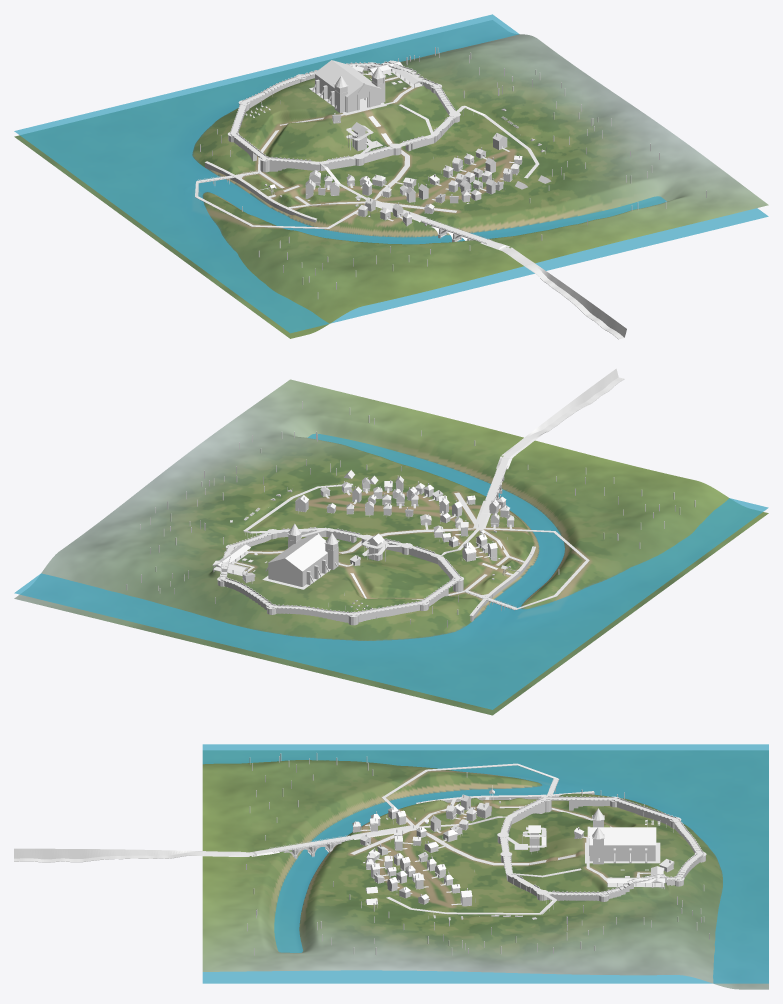
File: world_orleans.core.glb
3 views of the same model, one above another, from view 1: azimuth 30°, elevation 25°; view 2: azimuth 150°, elevation 25°; view 3: azimuth 270°, elevation 25° (orthographic). The views are drawn at different scales.
Visible parts, largest first — view 1: Terrain, Water, COL_Props; view 2: Terrain, Water, COL_Props; view 3: Terrain, Water, COL_Props.
Part boxes in pixels (box(x1,y1,x2,y2)): Terrain: box(14, 20, 768, 338); Water: box(14, 14, 768, 333); COL_Props: box(195, 47, 706, 339); Terrain: box(14, 379, 768, 715); Water: box(14, 433, 768, 709); COL_Props: box(126, 368, 695, 627); Terrain: box(202, 750, 768, 989); Water: box(202, 744, 768, 983); COL_Props: box(14, 753, 709, 955).
Bounding box in the file's own units: 720 × 90 × 960.
